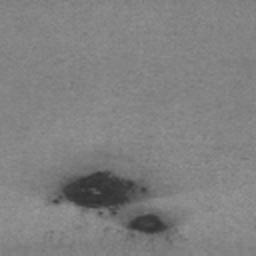Iron sheet ash: (60, 170, 137, 210), (129, 212, 170, 236), (140, 187, 147, 195)
